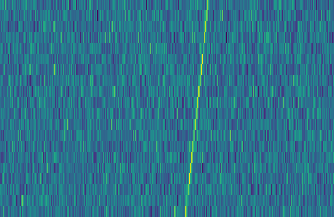signal: (181, 0, 213, 217)
